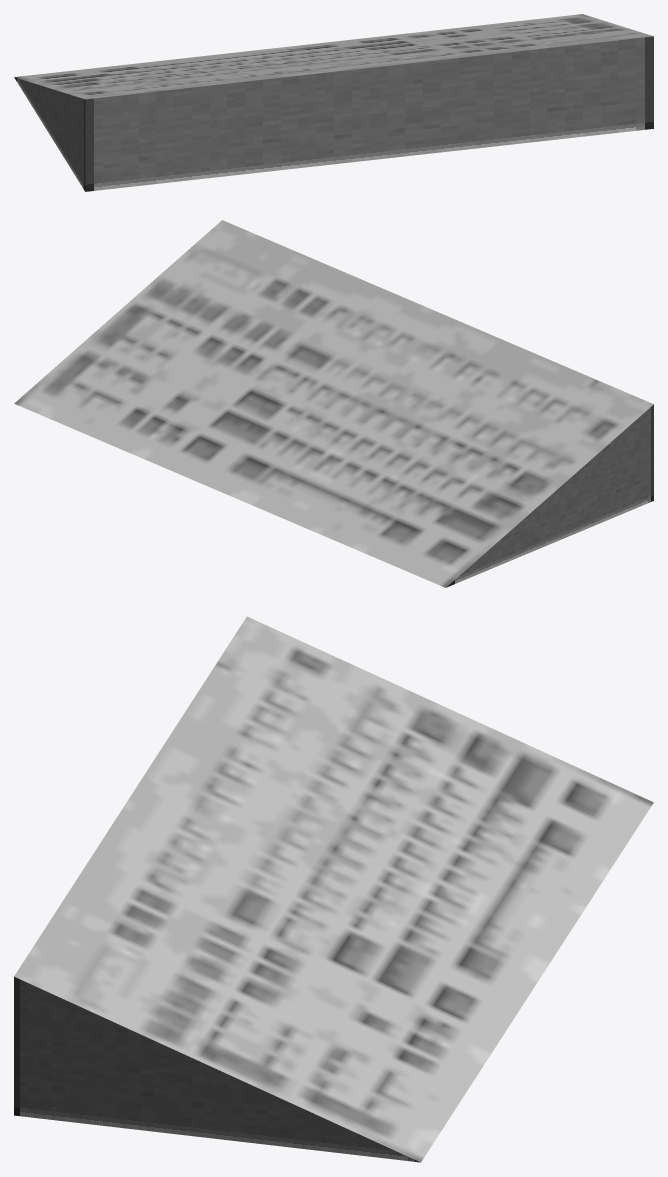
File: primary_084.glb
3 renders of one model, top to bottom at view 1: azimuth 30°, elevation 25°; view 2: azimuth 150°, elevation 25°; view 3: azimuth 270°, elevation 25°, orthographic. The views are drawn at different scales.
Visible parts, largest first — view 1: Object; view 2: Object; view 3: Object.
Part boxes in pixels (bbox=[...]): Object: bbox=[14, 14, 653, 191]; Object: bbox=[14, 220, 653, 587]; Object: bbox=[14, 616, 653, 1162].
Bounding box in the file's own units: 0.8547 × 0.136 × 0.5677.
Materials: 4 (4 with a texture image).
